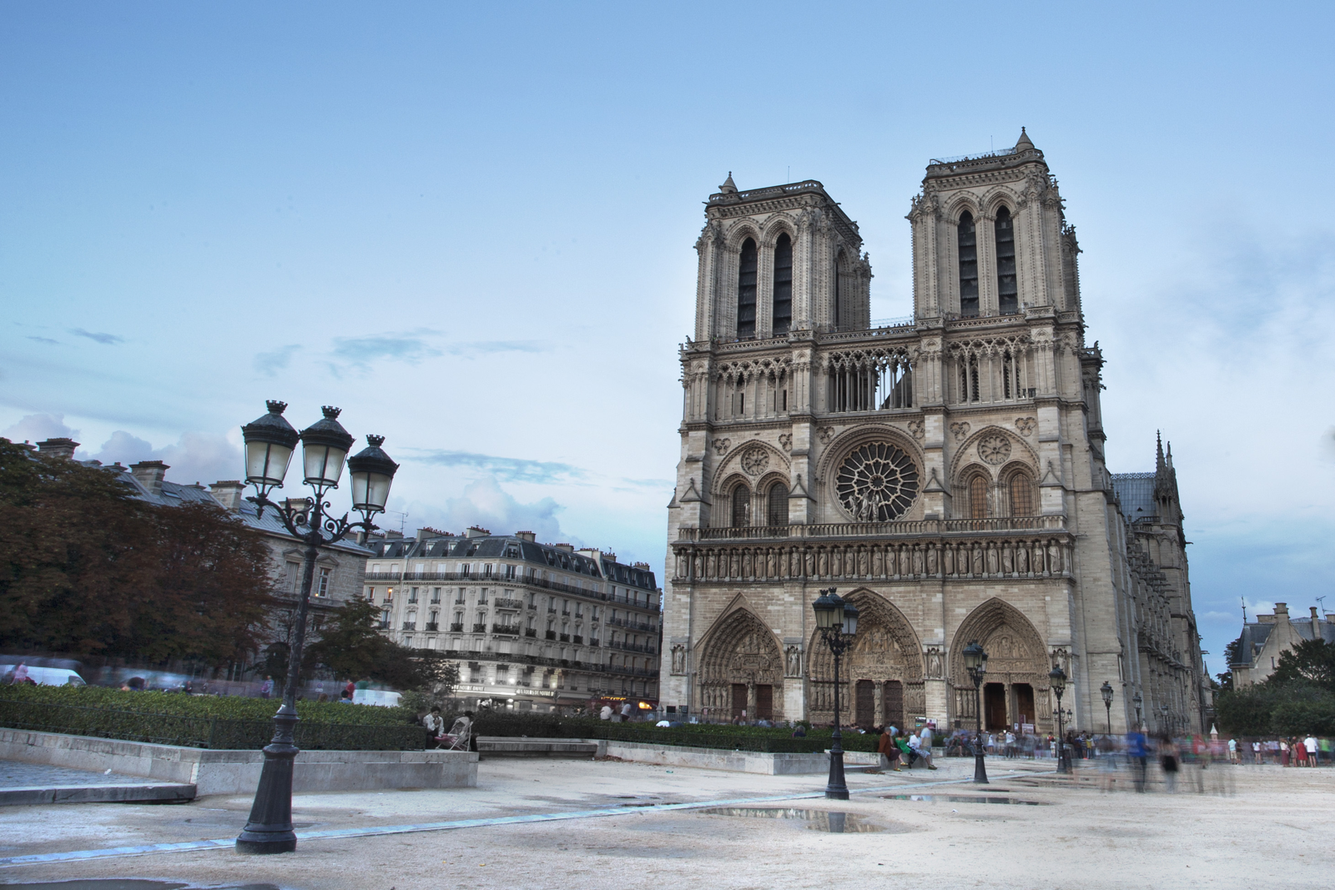fachada: (653, 138, 1208, 744), (342, 494, 665, 734), (1224, 592, 1335, 715)
poste: (215, 384, 398, 851), (793, 580, 887, 803), (947, 632, 1014, 790), (1045, 661, 1089, 778), (1093, 674, 1128, 740), (1131, 684, 1154, 736)
